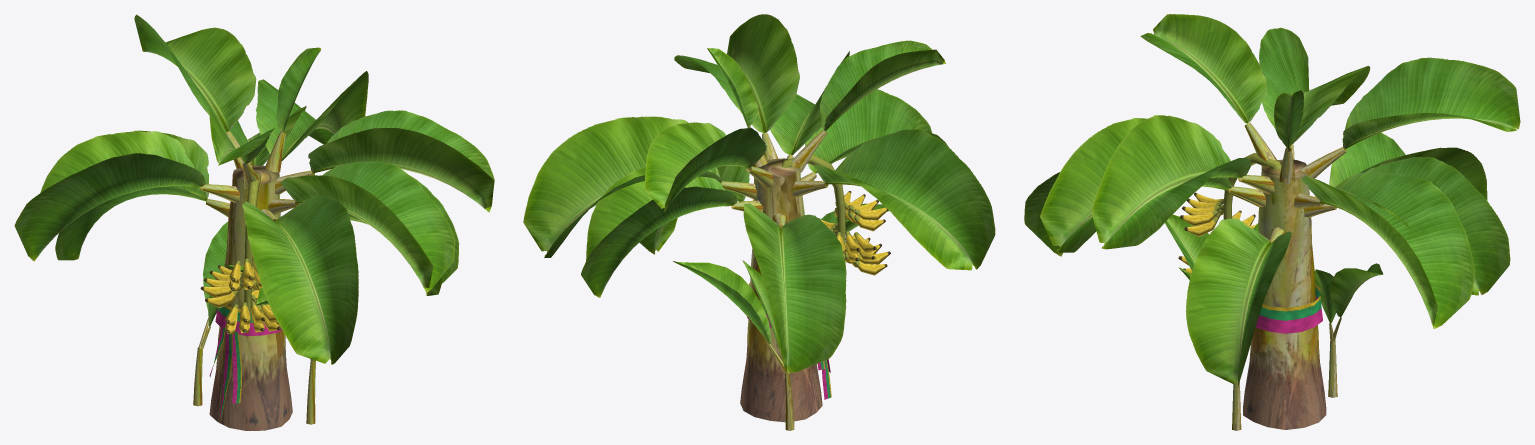
File: BananaTree_C_Cloth_Ripe.fbx
3 renders of one model, left to right at view 1: azimuth 30°, elevation 25°; view 2: azimuth 150°, elevation 25°; view 3: azimuth 270°, elevation 25°, orthographic. The views are drawn at different scales.
Parts seen in each view (by area): view 1: BananaTree_C_Cloth_Ripe_LOD0; view 2: BananaTree_C_Cloth_Ripe_LOD0; view 3: BananaTree_C_Cloth_Ripe_LOD0.
Part boxes in pixels (x1,y1,x2,y2): BananaTree_C_Cloth_Ripe_LOD0: [14, 14, 494, 430]; BananaTree_C_Cloth_Ripe_LOD0: [523, 14, 995, 430]; BananaTree_C_Cloth_Ripe_LOD0: [1024, 14, 1520, 430].
Size of what is drawn, in the model's own units: 3.14 by 2.5 by 3.18.
